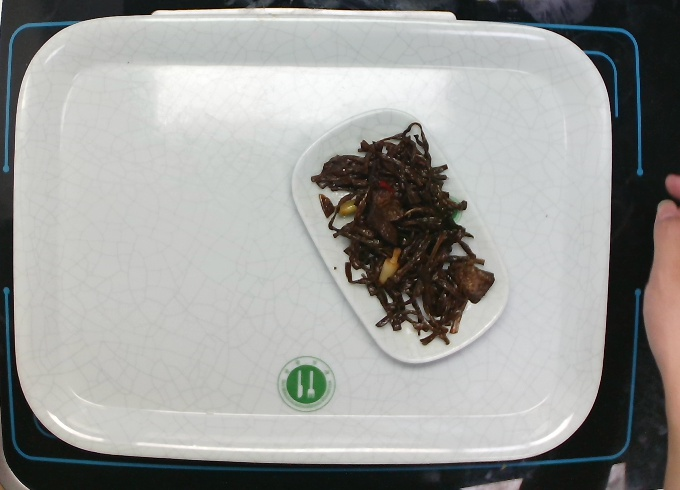WCQzf-Tuo_Yuan_Pan: (286, 105, 509, 366)
